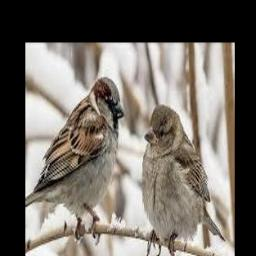Sparrow: (25, 76, 124, 245), (141, 104, 226, 256)
